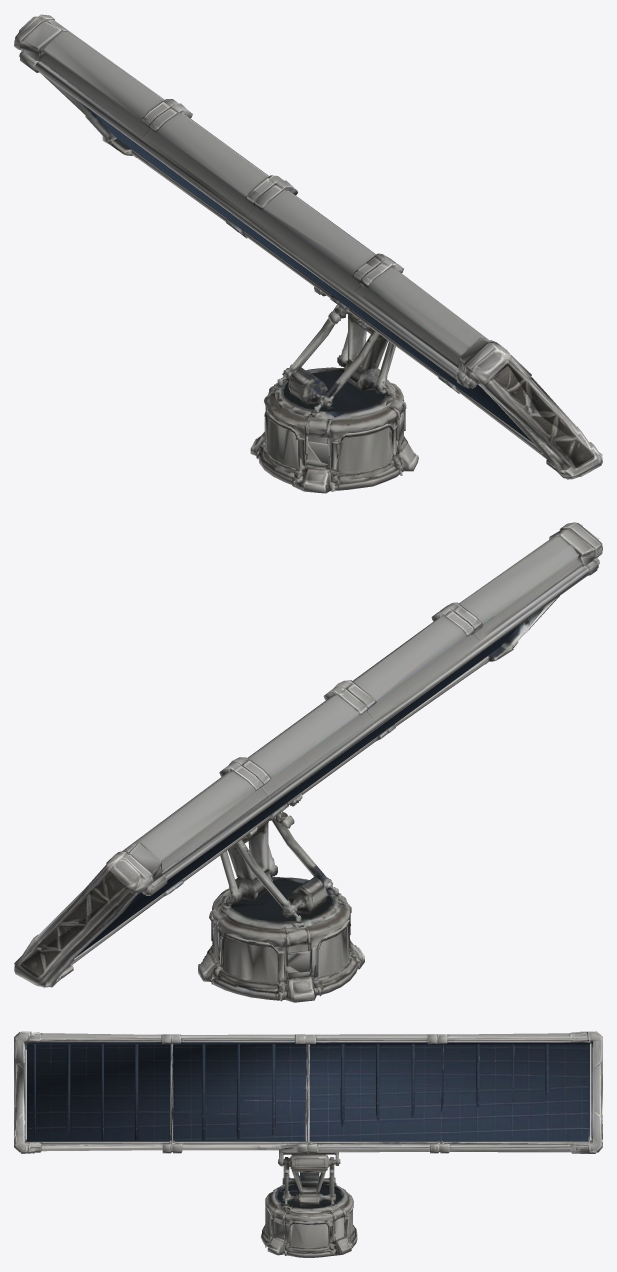
File: solarWing.glb
3 views of the same model, one above another, from view 1: azimuth 30°, elevation 25°; view 2: azimuth 150°, elevation 25°; view 3: azimuth 270°, elevation 25° (orthographic). The views are drawn at different scales.
Visible parts, largest first — view 1: tripo_node_b40b0516-6850-43bd-9cc1-964516adc59d; view 2: tripo_node_b40b0516-6850-43bd-9cc1-964516adc59d; view 3: tripo_node_b40b0516-6850-43bd-9cc1-964516adc59d.
Part boxes in pixels (<box>): tripo_node_b40b0516-6850-43bd-9cc1-964516adc59d: <box>14,14,602,493</box>; tripo_node_b40b0516-6850-43bd-9cc1-964516adc59d: <box>14,522,602,1002</box>; tripo_node_b40b0516-6850-43bd-9cc1-964516adc59d: <box>14,1031,602,1257</box>.
Bounding box in the file's own units: 0.1973 × 0.3457 × 0.998.
Materials: 1 (1 with a texture image).
